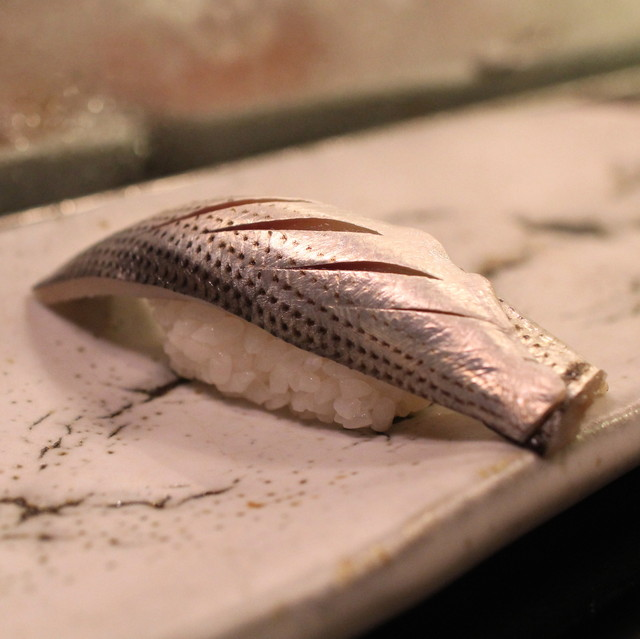spotted-shad: (29, 189, 610, 470)
